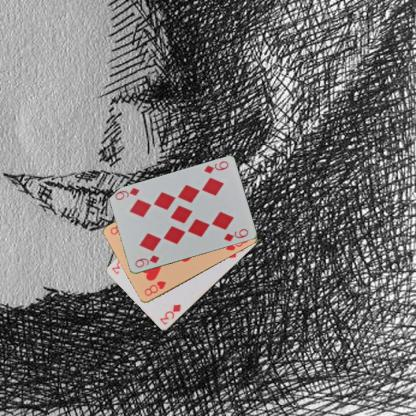3d: (157, 302, 182, 326)
8h: (142, 278, 167, 298)
9d: (132, 252, 161, 270), (201, 158, 229, 175)
